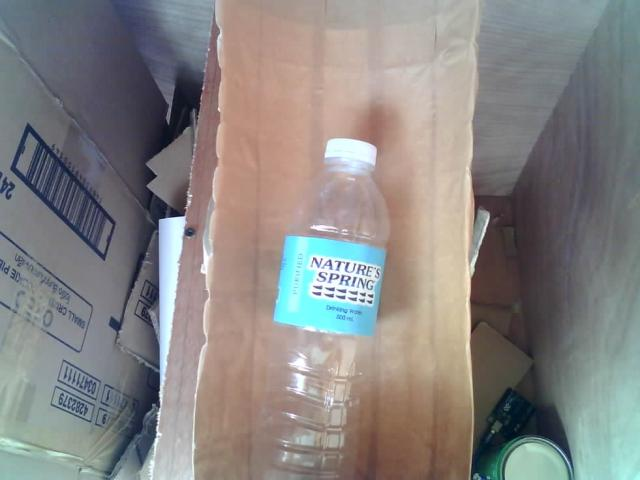small_bottle: (242, 134, 400, 480)
